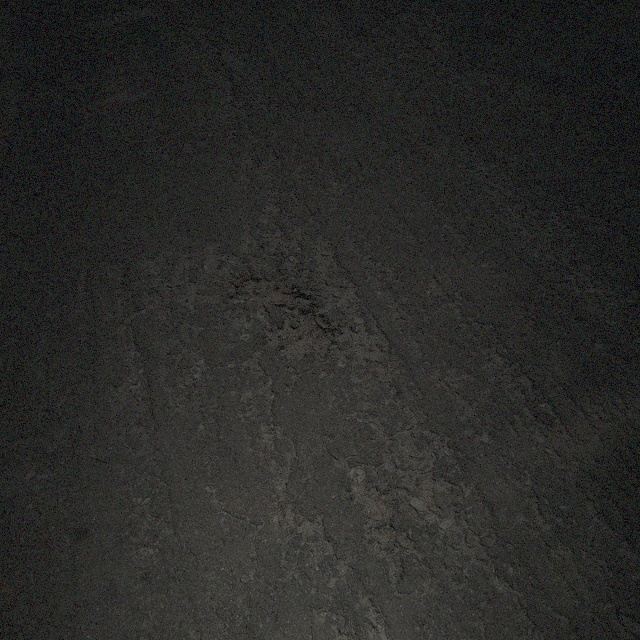pothole: (228, 271, 338, 363)
